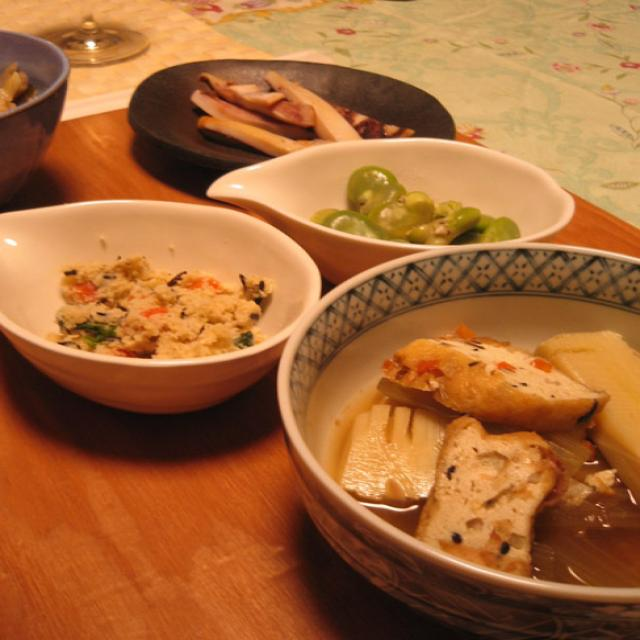熟制海鲜: (273, 335, 640, 581)
